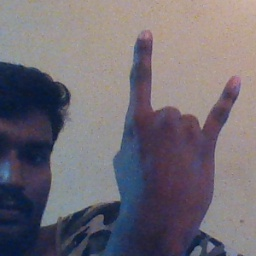V: (111, 25, 242, 225)
